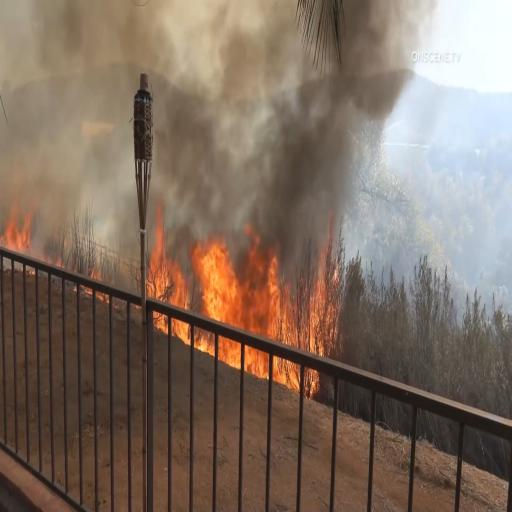fire: (156, 200, 294, 394), (2, 178, 37, 262)
smoke: (158, 11, 298, 194), (0, 0, 129, 186), (264, 80, 358, 221), (344, 6, 401, 123)
